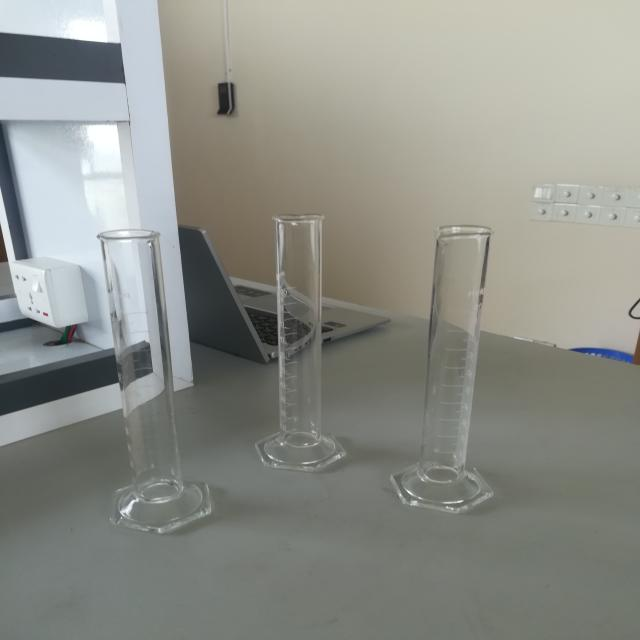Measuring_Cylinder: (69, 212, 229, 558), (377, 215, 519, 528), (243, 194, 364, 493)
